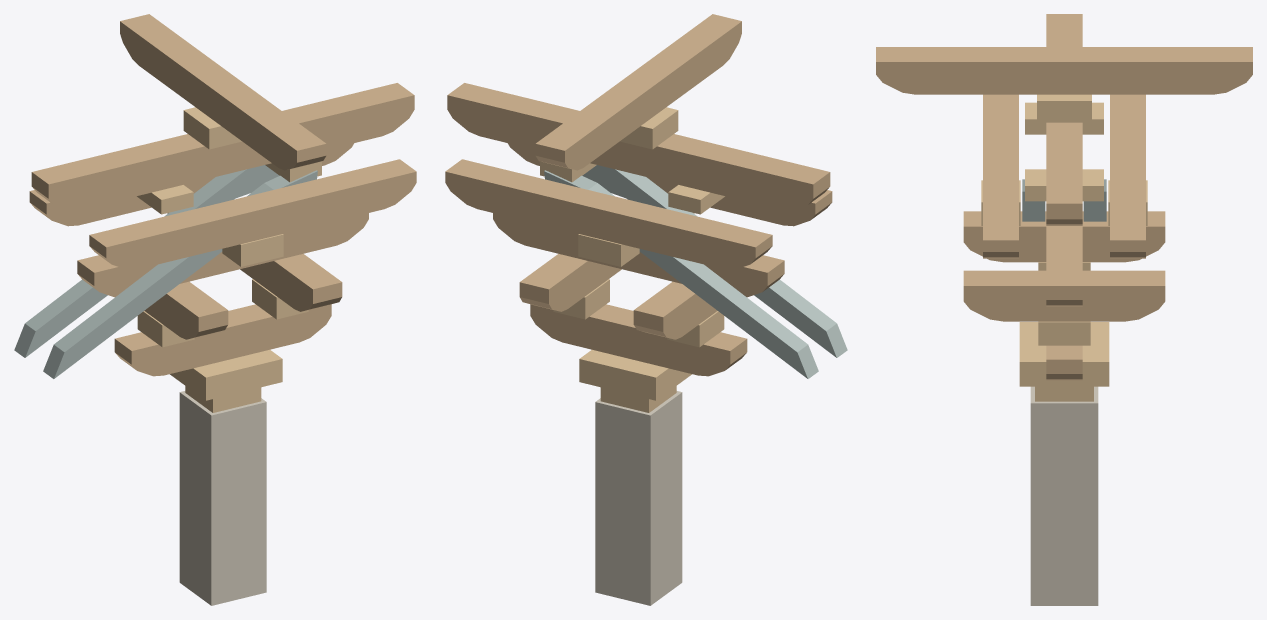
File: MUSEUM_REFERENCED_VISUAL_PROOF_V001.glb
The picture shows the model from 3 angles, left to right: view 1: azimuth 30°, elevation 25°; view 2: azimuth 150°, elevation 25°; view 3: azimuth 270°, elevation 25°; orthographic projection. The views are drawn at different scales.
Parts seen in each view (by area): view 1: PROOF_COLUMN, TOP_LONG_GONG, TRANSVERSE_2_A, TOP_CROSS_MEMBER, HUA_1, DIAGONAL_ANG_A, DIAGONAL_ANG_B, HUA_2, TRANSVERSE_1_B, LUDOU_TOP, TRANSVERSE_1_A, TRANSVERSE_2_B (+7 smaller); view 2: PROOF_COLUMN, TOP_LONG_GONG, TRANSVERSE_2_B, TOP_CROSS_MEMBER, HUA_1, DIAGONAL_ANG_B, DIAGONAL_ANG_A, HUA_2, TRANSVERSE_1_B, LUDOU_TOP, TRANSVERSE_1_A, TRANSVERSE_2_A (+7 smaller); view 3: TOP_CROSS_MEMBER, PROOF_COLUMN, TRANSVERSE_1_B, TRANSVERSE_2_A, TRANSVERSE_2_B, TOP_LONG_GONG, TRANSVERSE_1_A, LUDOU_TOP, HUA_2, TOP_SUPPORT_C, TOP_SUPPORT_B, HUA_1 (+5 smaller).
Part boxes in pixels (x1,y1,x2,y2): PROOF_COLUMN: [179, 391, 266, 605]; TOP_LONG_GONG: [31, 83, 414, 210]; TRANSVERSE_2_A: [89, 159, 416, 269]; TOP_CROSS_MEMBER: [120, 14, 326, 170]; HUA_1: [114, 304, 331, 376]; DIAGONAL_ANG_A: [43, 170, 317, 378]; DIAGONAL_ANG_B: [14, 165, 279, 357]; HUA_2: [77, 213, 368, 297]; TRANSVERSE_1_B: [240, 254, 342, 311]; LUDOU_TOP: [170, 349, 282, 400]; TRANSVERSE_1_A: [144, 281, 228, 339]; TRANSVERSE_2_B: [29, 143, 353, 226]; PROOF_COLUMN: [595, 391, 682, 605]; TOP_LONG_GONG: [447, 83, 830, 210]; TRANSVERSE_2_B: [445, 159, 772, 269]; TOP_CROSS_MEMBER: [535, 14, 741, 170]; HUA_1: [530, 304, 747, 376]; DIAGONAL_ANG_B: [544, 170, 818, 378]; DIAGONAL_ANG_A: [582, 165, 847, 357]; HUA_2: [493, 213, 784, 297]; TRANSVERSE_1_B: [519, 254, 621, 311]; LUDOU_TOP: [579, 349, 691, 400]; TRANSVERSE_1_A: [633, 281, 717, 339]; TRANSVERSE_2_A: [508, 143, 832, 226]; TOP_CROSS_MEMBER: [876, 47, 1252, 94]; PROOF_COLUMN: [1030, 386, 1098, 605]; TRANSVERSE_1_B: [963, 270, 1165, 321]; TRANSVERSE_2_A: [983, 94, 1018, 258]; TRANSVERSE_2_B: [1110, 94, 1145, 258]; TOP_LONG_GONG: [1046, 14, 1082, 225]; TRANSVERSE_1_A: [963, 211, 1165, 262]; LUDOU_TOP: [1019, 322, 1109, 386]; HUA_2: [1046, 226, 1082, 306]; TOP_SUPPORT_C: [1037, 94, 1091, 122]; TOP_SUPPORT_B: [1025, 169, 1103, 201]; HUA_1: [1046, 345, 1082, 380].
Size of the model in its own units: 2.08 by 2.7 by 1.72.
